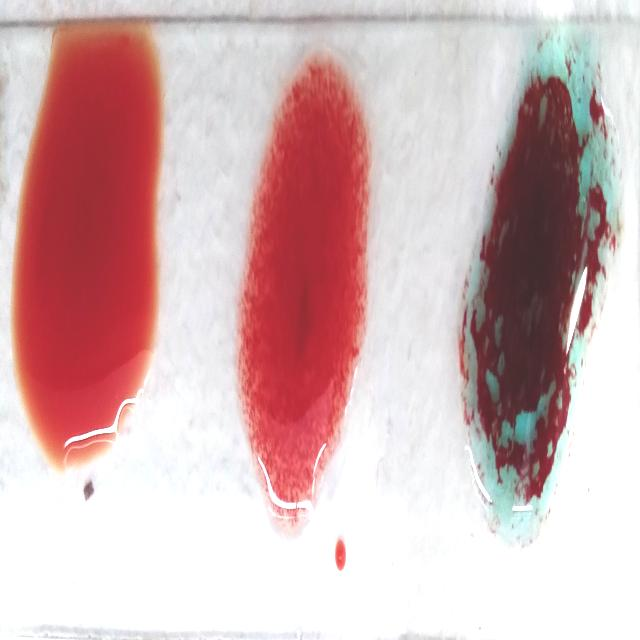A: (469, 32, 600, 540)
D: (240, 56, 370, 528)
